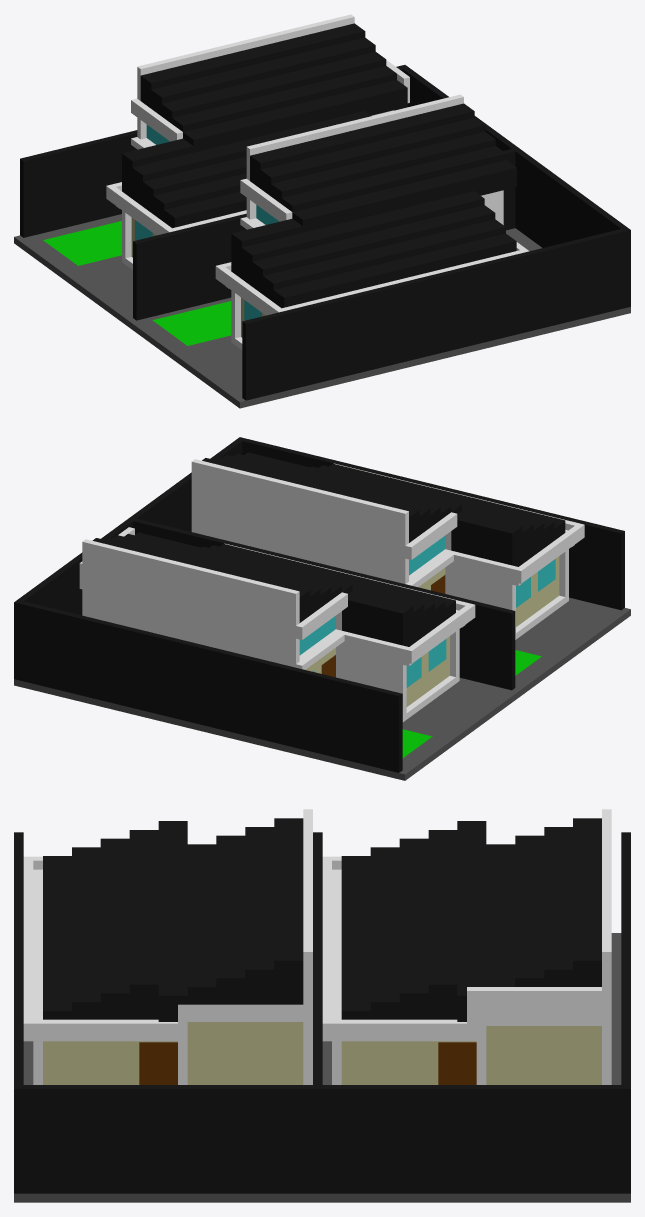
File: house-5.obj
The picture shows the model from 3 angles, top to bottom: view 1: azimuth 30°, elevation 25°; view 2: azimuth 150°, elevation 25°; view 3: azimuth 270°, elevation 25°; orthographic projection. The views are drawn at different scales.
Size of the model in its own units: 6.4 by 2.4 by 6.4.
Materials: 1 (1 with a texture image).
